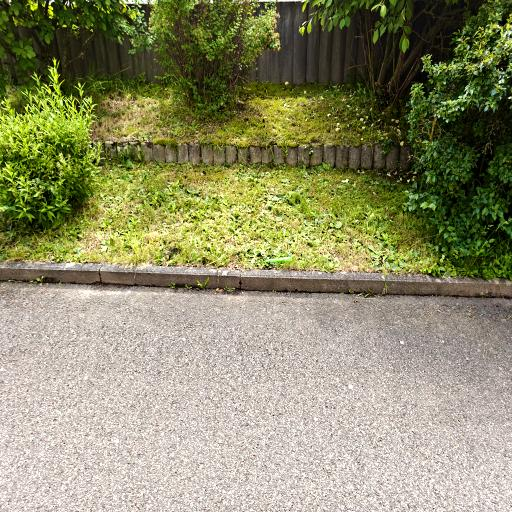Probe-Detection: (265, 256, 292, 263)
